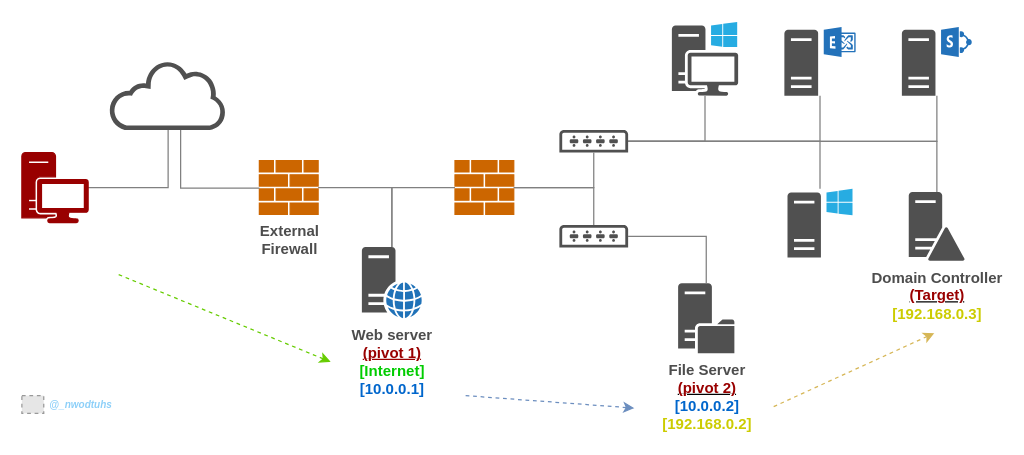
The diagram is 1024 pixels wide and 455 high, and some of its shapes have lost their labels. Grey dashed boxes stand in for pictures. Here are the shapes that lost their labels. From the top down, the centre of each, then its label:
At (54,186): "Attacker [Internet]".
At (484,186): "Internal Firewall".
